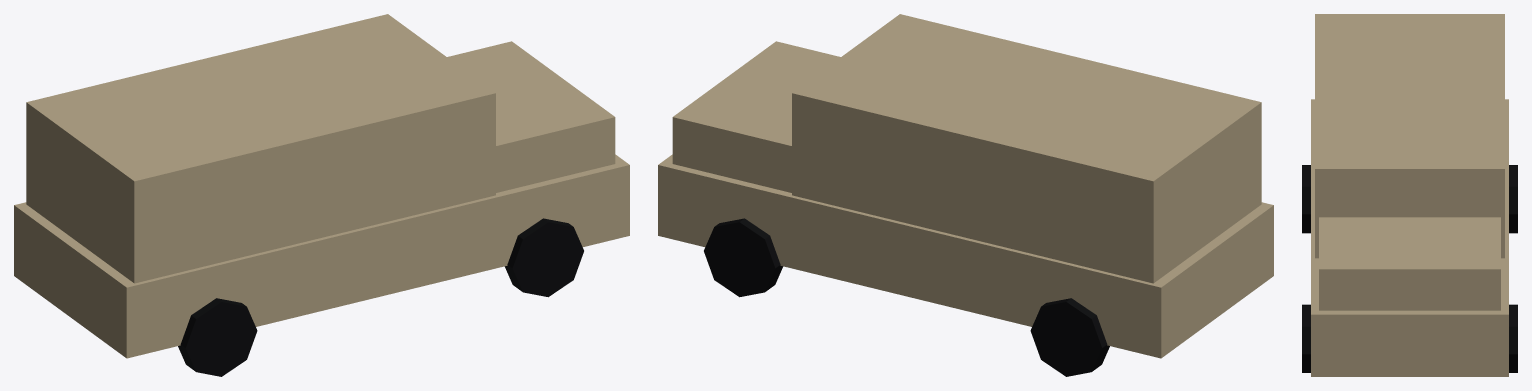
Rendered from proxy_van_beige.dae.
3 views of the same model, side by side, from view 1: azimuth 30°, elevation 25°; view 2: azimuth 150°, elevation 25°; view 3: azimuth 270°, elevation 25° (orthographic). The views are drawn at different scales.
Visible parts, largest first — view 1: proxy_van; view 2: proxy_van; view 3: proxy_van.
Part boxes in pixels (x1,y1,x2,y2): proxy_van: (14,14,629,376); proxy_van: (658,14,1273,376); proxy_van: (1302,14,1517,376).
Size of the model in its own units: 5.05 by 2.14 by 2.01.
